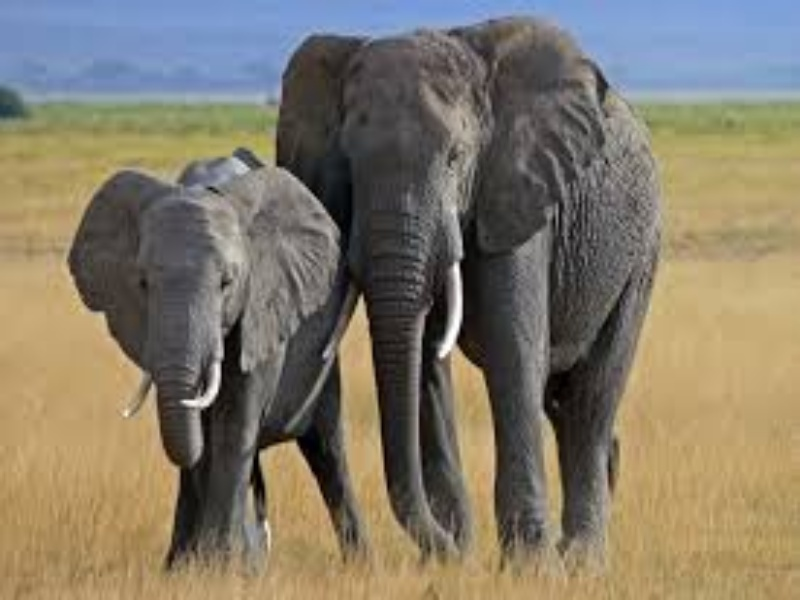elephant: (62, 14, 678, 585)
